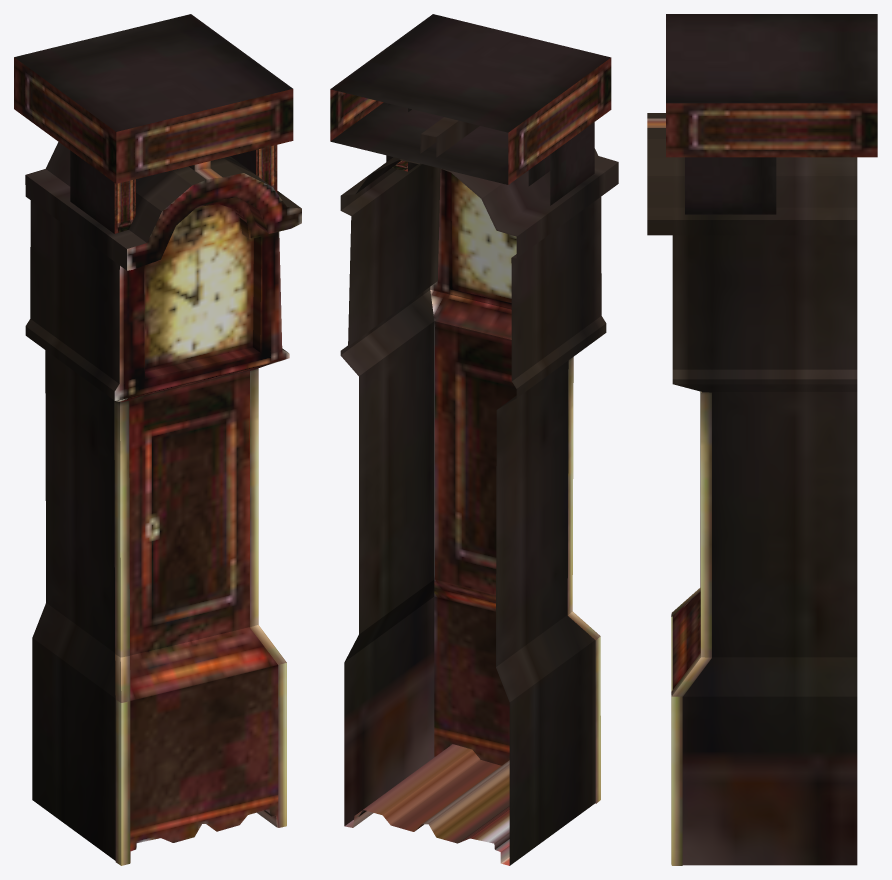
Rendered from Slap_SH_Pendule.fbx.
3 views of the same model, side by side, from view 1: azimuth 30°, elevation 25°; view 2: azimuth 150°, elevation 25°; view 3: azimuth 270°, elevation 25° (orthographic). The views are drawn at different scales.
Parts seen in each view (by area): view 1: Slap_SH_Pendule; view 2: Slap_SH_Pendule; view 3: Slap_SH_Pendule.
Boxes of the visible parts, x1,y1,x2,y2 form: Slap_SH_Pendule: (14,14,301,865); Slap_SH_Pendule: (330,14,618,865); Slap_SH_Pendule: (647,14,877,865).
Size of the model in its own units: 0.506 by 2.02 by 0.5508.
Materials: 1 (1 with a texture image).
